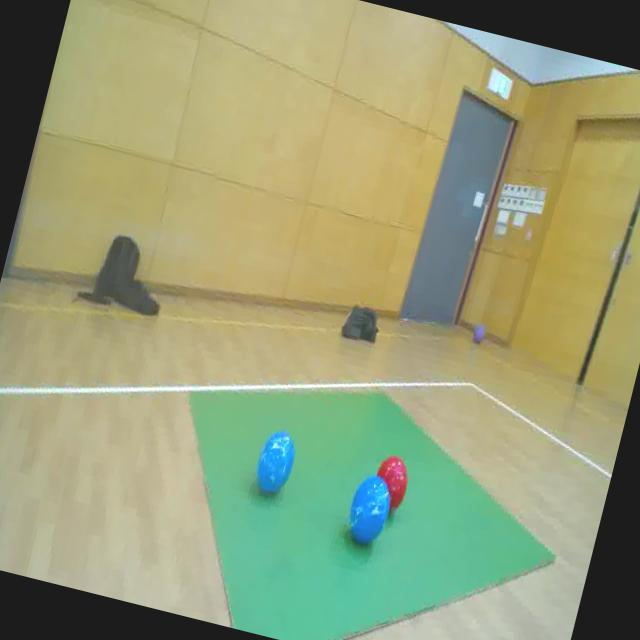blue_ball: (340, 468, 398, 554), (249, 426, 302, 499)
purple_ball: (468, 319, 488, 347)
red_ball: (365, 451, 415, 517)
